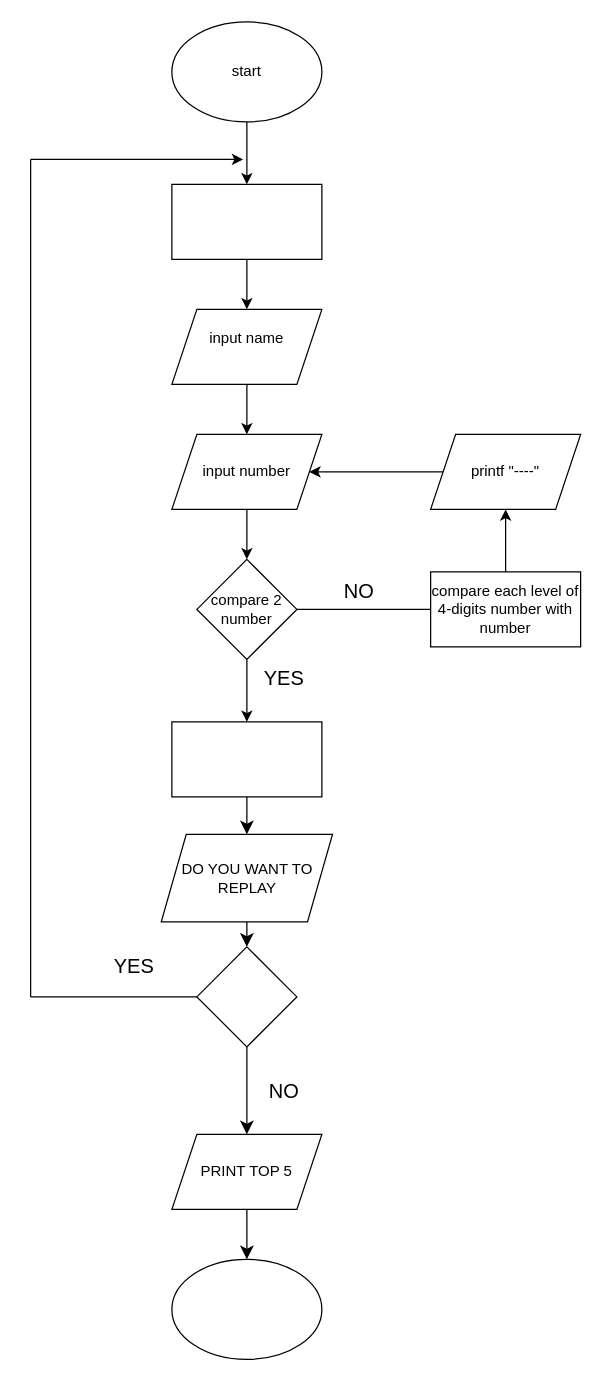
Image size: 603x1381. Some labels were removed from this diagram. The box of each missing label's shape, as (x1, y1, x2, y2) in pixels:
calculate lucky ratio: (171, 721, 322, 797)
end: (171, 1258, 322, 1359)
generate a random number: (171, 183, 322, 259)
replay: (196, 946, 297, 1047)
